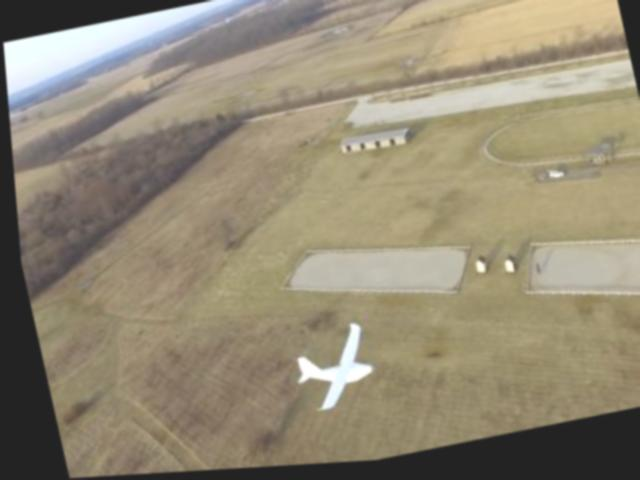uav: (274, 316, 386, 427)
